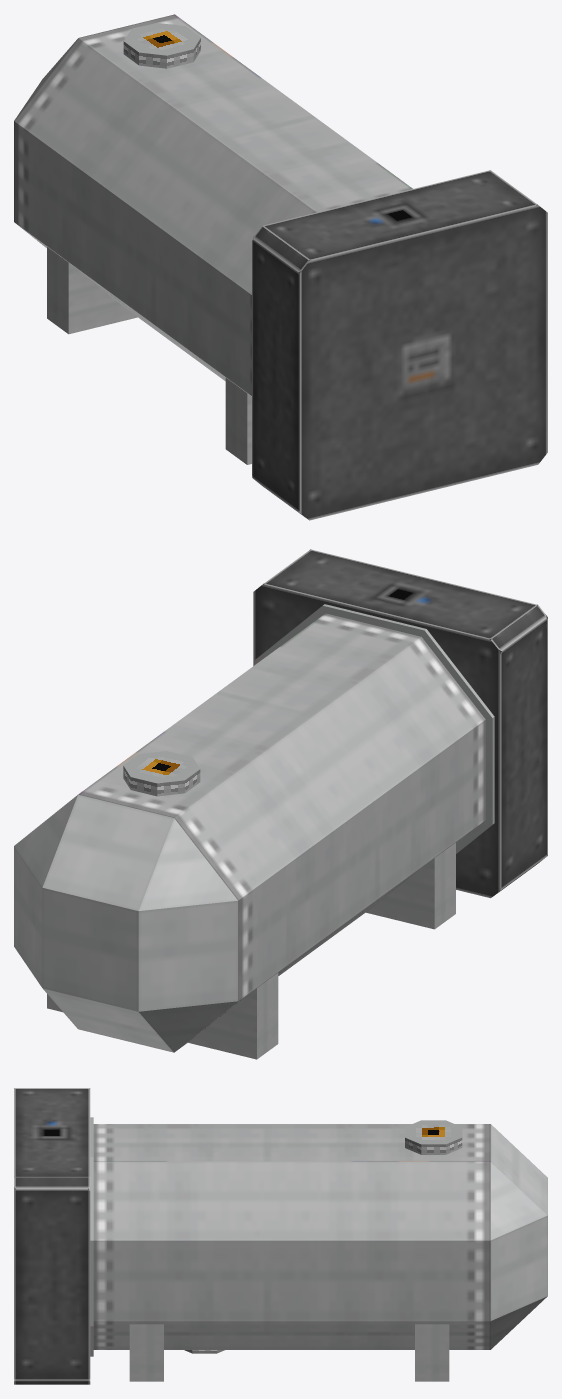
Rendered from heat_exchanger_large_item.obj.
The picture shows the model from 3 angles, top to bottom: view 1: azimuth 30°, elevation 25°; view 2: azimuth 150°, elevation 25°; view 3: azimuth 270°, elevation 25°; orthographic projection. The views are drawn at different scales.
Visible parts, largest first — view 1: Cube, yuanzhu_Cylinder.012, jio_Cube.009, 灏忔按绠′笂_Cylinder.002, jio_Cube.001; view 2: yuanzhu_Cylinder.012, Cube, jio_Cube.009, jio_Cube.001, Cylinder.001, 灏忔按绠′笂_Cylinder.002; view 3: yuanzhu_Cylinder.012, Cube, jio_Cube.009, jio_Cube.001, 灏忔按绠′笂_Cylinder.002, Cylinder.001.
Boxes of the visible parts, x1,y1,x2,y2 form: Cube: (252,170,547,520); yuanzhu_Cylinder.012: (14,14,412,396); jio_Cube.009: (47,247,137,334); 灏忔按绠′笂_Cylinder.002: (123,23,200,68); jio_Cube.001: (225,378,251,464); yuanzhu_Cylinder.012: (14,613,485,1052); Cube: (253,549,547,898); jio_Cube.009: (47,973,278,1059); jio_Cube.001: (366,842,455,929); Cylinder.001: (254,604,494,853); 灏忔按绠′笂_Cylinder.002: (123,751,200,796); yuanzhu_Cylinder.012: (93,1124,547,1349); Cube: (14,1088,90,1384); jio_Cube.009: (415,1324,449,1381); jio_Cube.001: (129,1324,163,1381); 灏忔按绠′笂_Cylinder.002: (405,1120,462,1154); Cylinder.001: (89,1117,93,1356).
Bounding box in the file's own units: 3 × 3.03 × 7.
